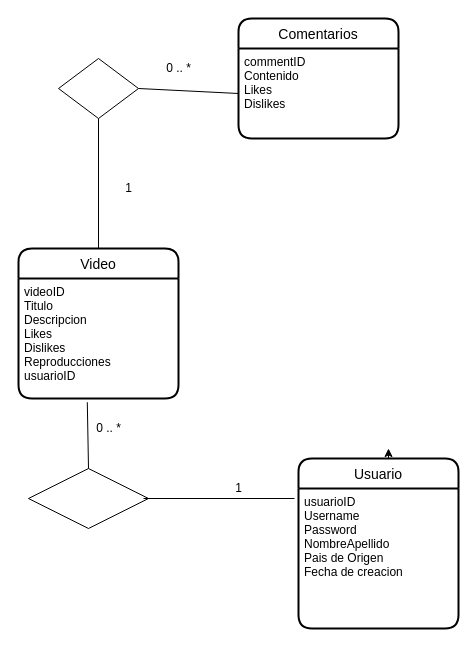
The diagram is 476 pixels wide and 646 high, and some of its shapes have lost their labels. Each missing label, with the centre of its shape:
"Contiene" belongs at [98,88].
"Publica" belongs at [88,498].
